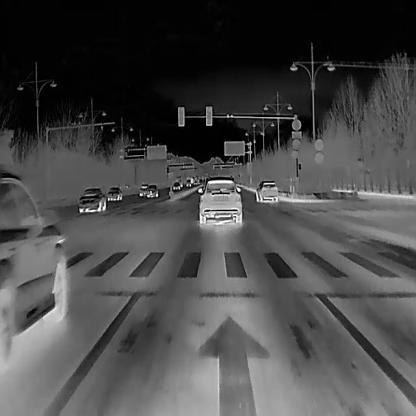car: (0, 171, 68, 365), (197, 175, 241, 226), (77, 187, 106, 213), (254, 180, 277, 202), (107, 185, 121, 200), (147, 183, 157, 197), (139, 183, 147, 195), (172, 181, 180, 189)
